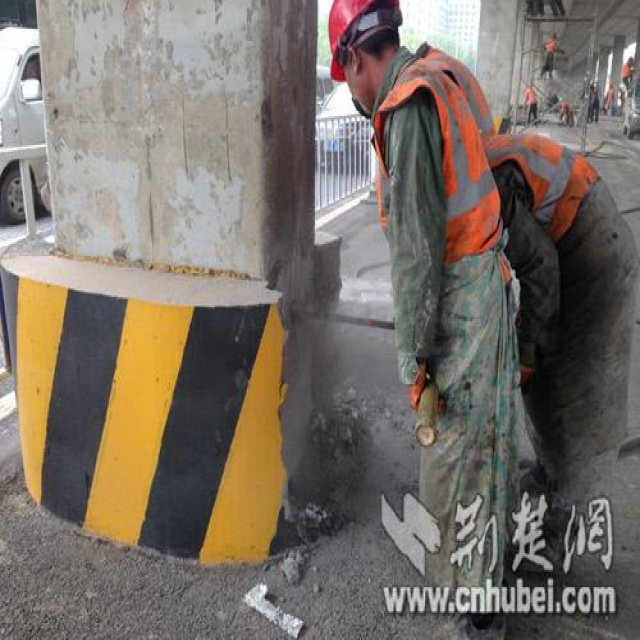Helmet: (328, 1, 406, 125)
Reflective vest: (374, 60, 503, 284), (487, 126, 608, 238)
